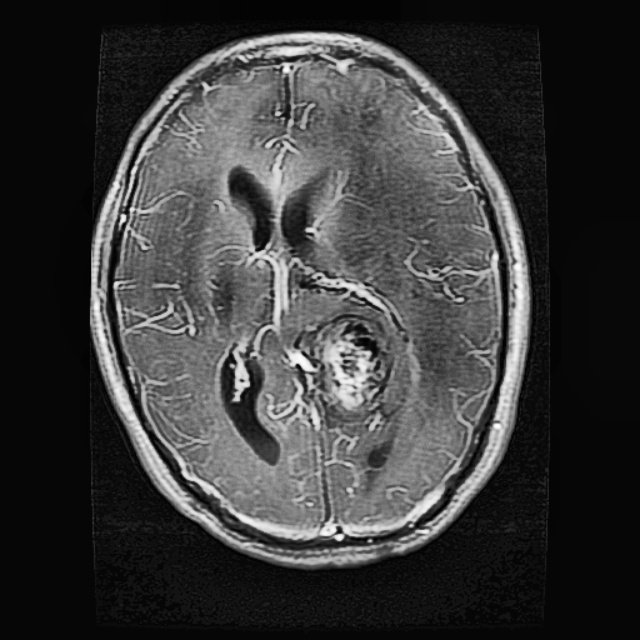Glioma: (282, 310, 409, 429)
